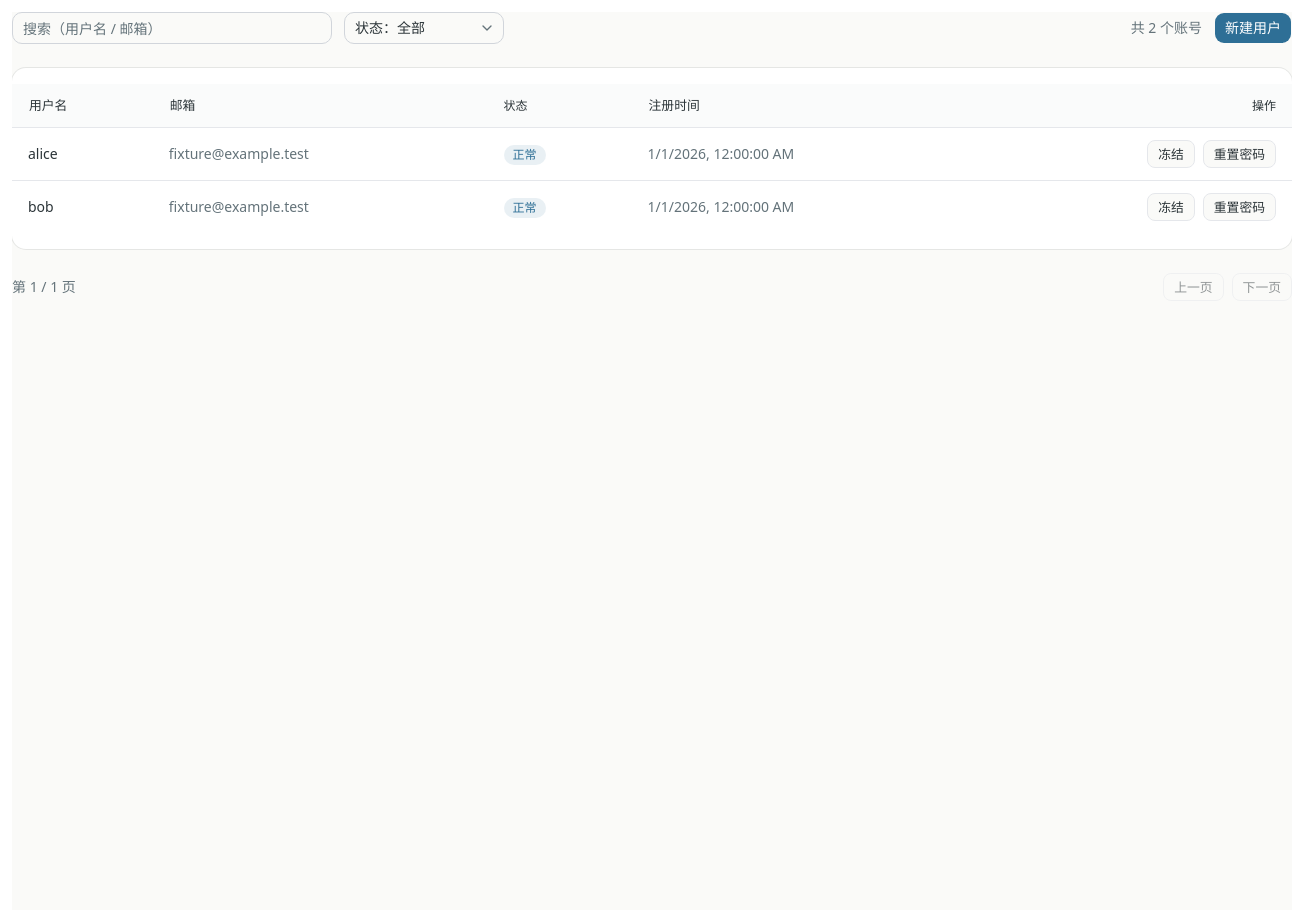
Test: credential and draft ownership › binds a newly generated password to the created user
Click the button "新建用户" at (1253, 28), box [1214,12,1292,44]
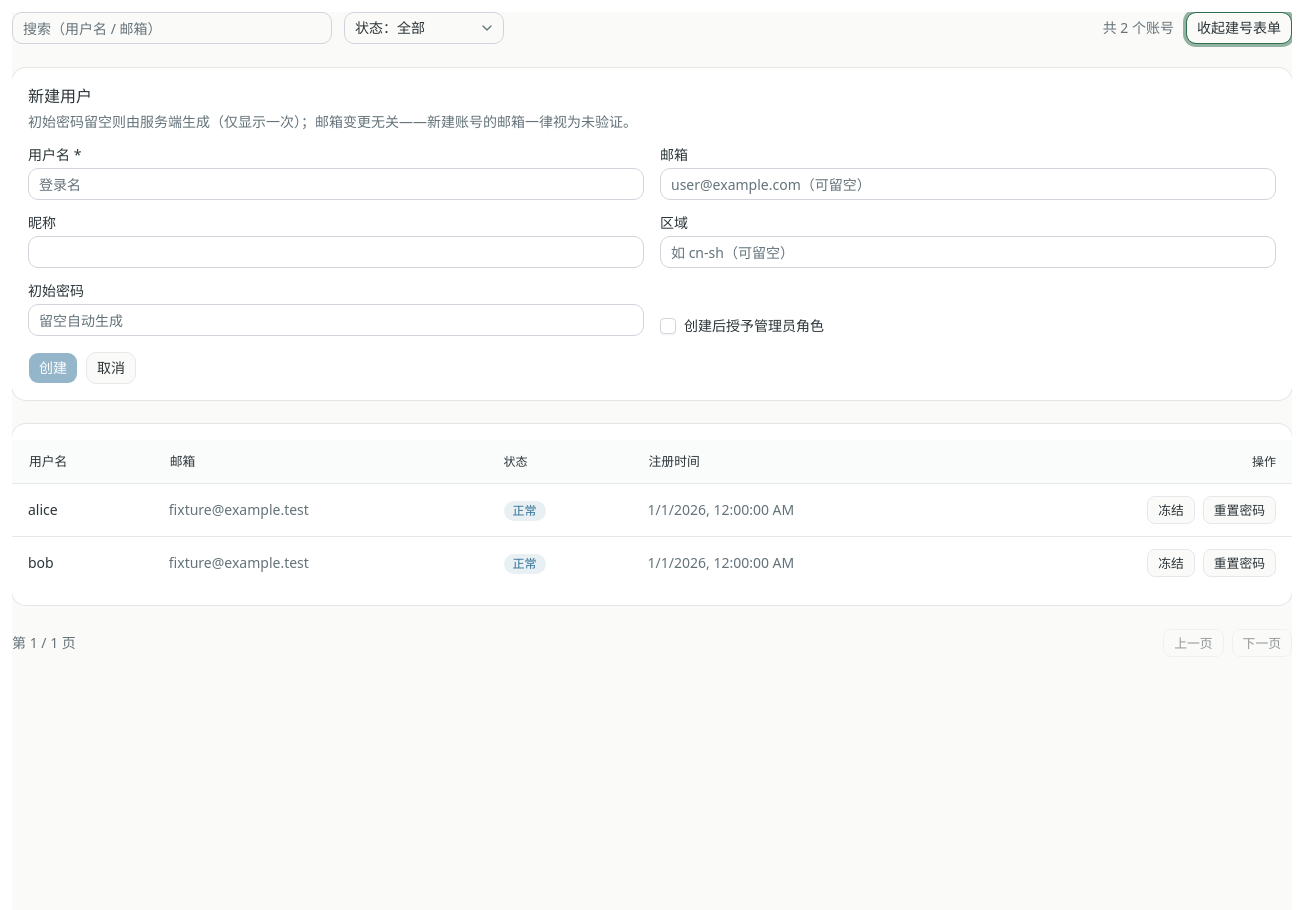
Type "bob" into the field labelled "用户名 *" at (336, 184), box [28,168,644,200]
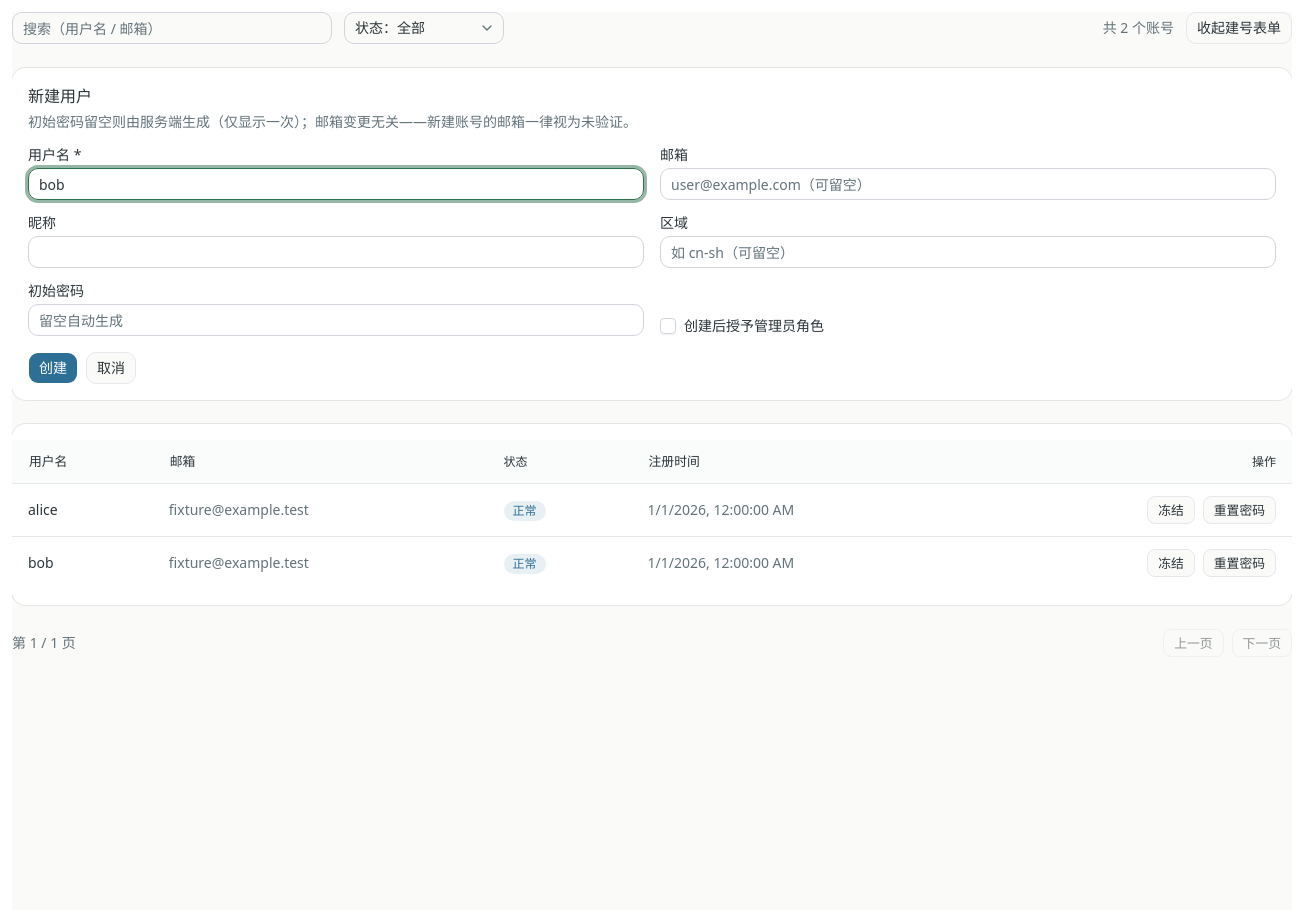
Click the button "创建" at (53, 368), box [28,352,78,384]
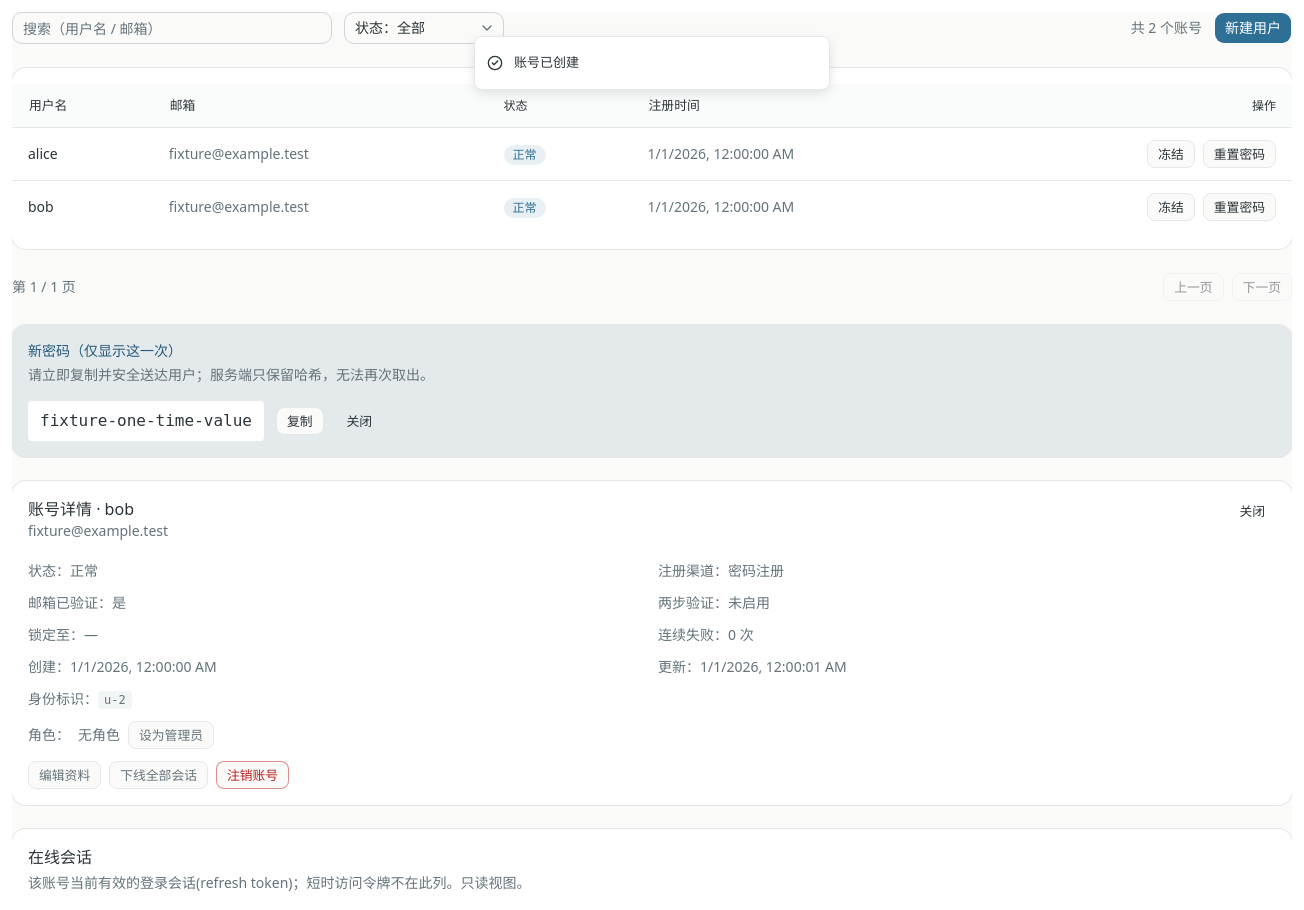
Result: the text "账号详情 · bob" is shown at [28,498,134,520]
Result: the text "fixture-one-time-value" is shown at [28,401,264,441]
